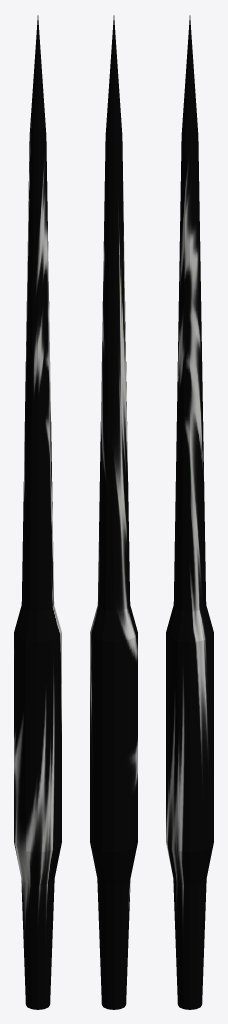
The model's file is 0505_zhiyujian_jian01.glb.
3 views of the same model, side by side, from view 1: azimuth 30°, elevation 25°; view 2: azimuth 210°, elevation 25°; view 3: azimuth 330°, elevation 25° (orthographic).
Bounding box in the file's own units: 0.0963 × 2.2 × 0.0963.
Materials: 1 (1 with a texture image).
